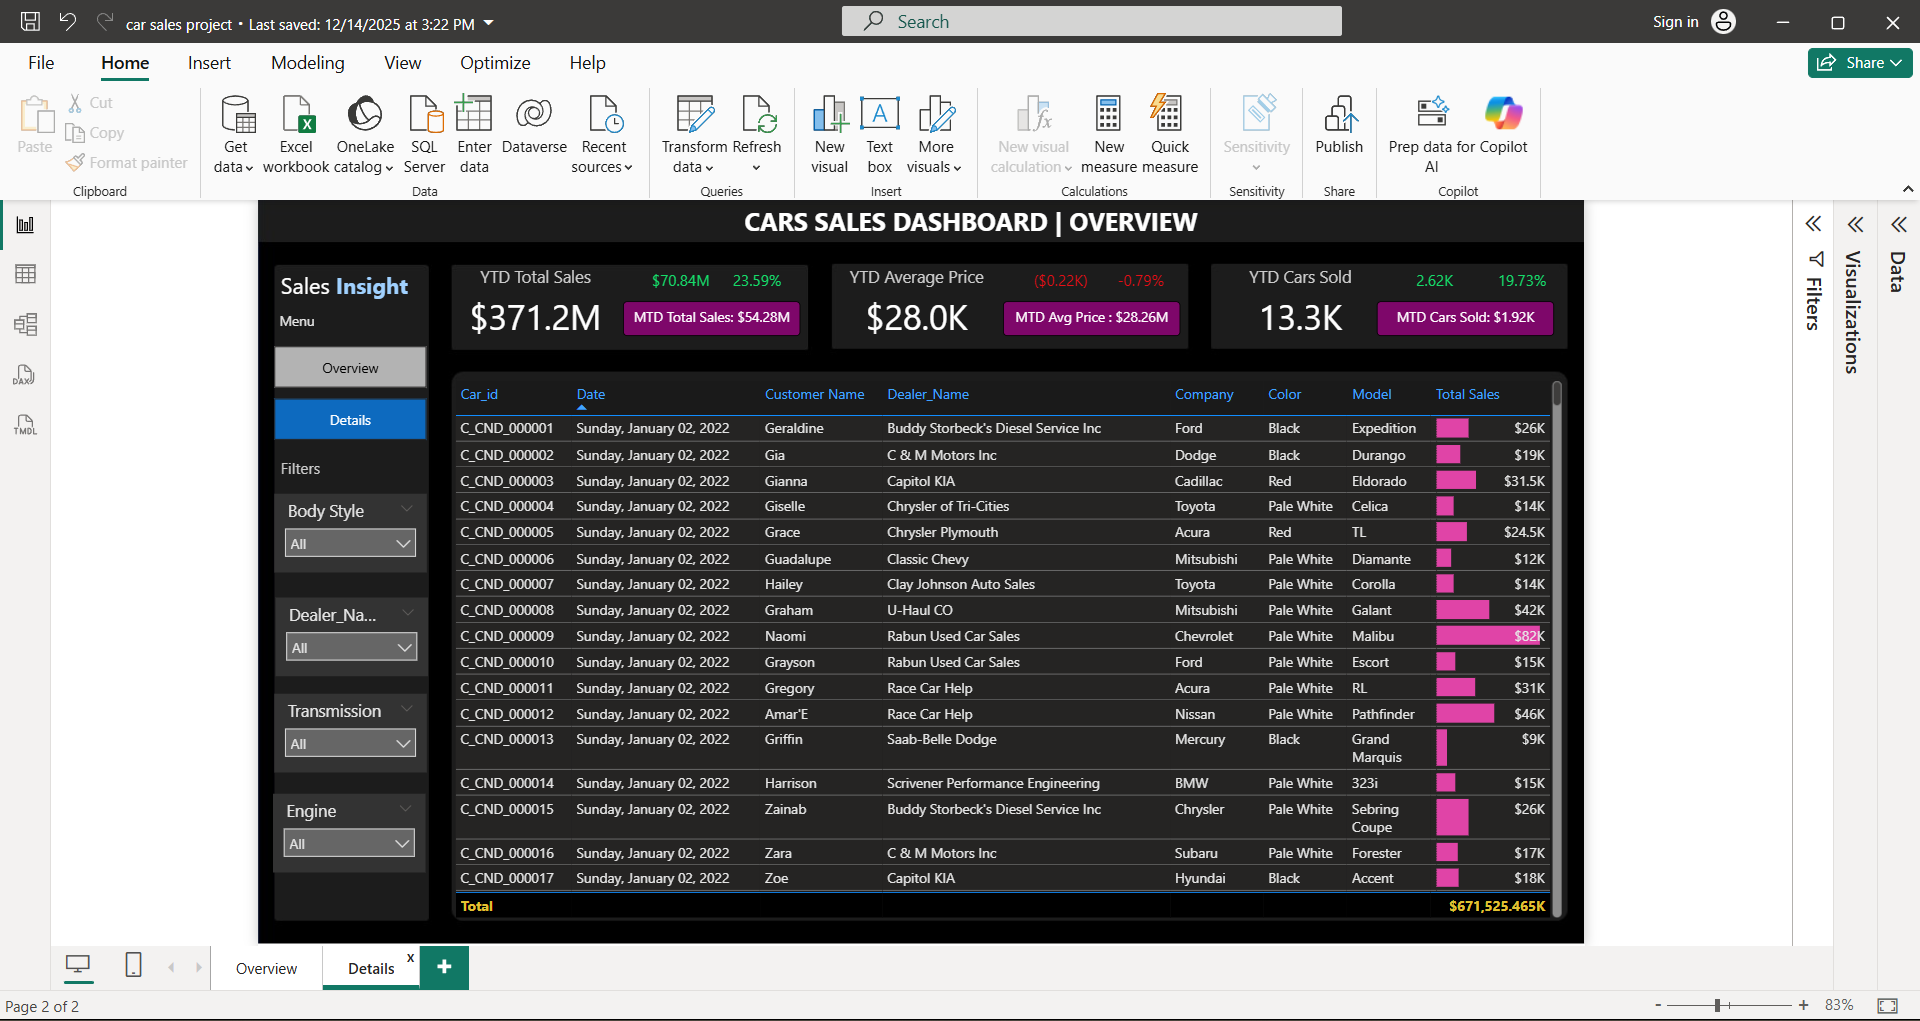

What the dashboard file says about the page in this screenshot:
{"tool":"powerbi","page":{"name":"Details","canvas":[1280,720],"ordinal":1},"visuals":[{"type":"card","title":"YTD Total Sales","fields":{"Values":["car_data.Year To Date"]},"box":[170.1,62.7,195.4,78.4],"z":0},{"type":"card","fields":{"Values":["car_data.difference of sales"]},"box":[352.3,62.7,112.2,35],"z":1000},{"type":"card","fields":{"Values":["car_data.YoY"]},"box":[425.9,62.7,112.2,35],"z":2000},{"type":"card","fields":{"Values":["car_data.MTD KPI"]},"box":[352.3,97.7,171.3,33.8],"z":3000},{"type":"card","title":"YTD Average Price","fields":{"Values":["car_data.YTD Avg Price"]},"box":[538.1,62.7,195.4,78.4],"z":4000},{"type":"card","fields":{"Values":["car_data.Avg price diff"]},"box":[719,62.7,112.2,35],"z":5000},{"type":"card","fields":{"Values":["car_data.YoY Avg Price"]},"box":[796.3,62.7,112.2,35],"z":6000},{"type":"card","fields":{"Values":["car_data.MTD Avg price KPI"]},"box":[719,97.7,171.3,33.8],"z":7000},{"type":"card","title":"YTD Cars Sold","fields":{"Values":["car_data.YTD Cars Sold"]},"box":[908.4,62.7,195.4,78.4],"z":8000},{"type":"card","fields":{"Values":["car_data.Cars Sold Diff"]},"box":[1079.8,62.7,112.2,35],"z":9000},{"type":"card","fields":{"Values":["car_data.YoY Car Sold Growth"]},"box":[1164.2,62.7,112.2,35],"z":10000},{"type":"card","fields":{"Values":["car_data.MTD Cars Sold KPI"]},"box":[1079.8,97.7,171.3,33.8],"z":11000},{"type":"textbox","box":[464.5,0,469.3,49.5],"z":17000},{"type":"slicer","fields":{"Values":["car_data.Body Style"]},"box":[15.7,283.5,147.2,76],"z":18000},{"type":"slicer","fields":{"Values":["car_data.Dealer_Name"]},"box":[16.9,383.6,147.2,76],"z":19000},{"type":"slicer","fields":{"Values":["car_data.Transmission"]},"box":[15.7,476.5,147.2,76],"z":20000},{"type":"slicer","fields":{"Values":["car_data.Engine"]},"box":[14.5,573.1,147.2,76],"z":21000},{"type":"textbox","box":[16.9,243.7,149.6,39.8],"z":22000},{"type":"tableEx","fields":{"Values":["car_data.Car_id","car_data.Date","car_data.Customer Name","car_data.Dealer_Name","car_data.Company","car_data.Color","car_data.Model","Sum(car_data.Price ($))"]},"box":[184.6,170.1,1078.6,527.2],"z":22001},{"type":"textbox","box":[16.9,62.7,149.6,39.8],"z":22002},{"type":"textbox","box":[15.7,102.5,59.1,31.4],"z":22003},{"type":"pageNavigator","box":[15.7,141.2,147.2,91.7],"z":22004}]}

Visuals, with their boxes on the page's 1280x720 design canvas (x1, y1, x2, y2). These are canvas units, not pixel positions in the 1920x1021 screenshot, which may show the page scaled, cropped or inside an application window:
"YTD Total Sales" card: l=170, t=63, r=366, b=141
card - car_data.difference of sales: l=352, t=63, r=464, b=98
card - car_data.YoY: l=426, t=63, r=538, b=98
card - car_data.MTD KPI: l=352, t=98, r=524, b=132
"YTD Average Price" card: l=538, t=63, r=734, b=141
card - car_data.Avg price diff: l=719, t=63, r=831, b=98
card - car_data.YoY Avg Price: l=796, t=63, r=908, b=98
card - car_data.MTD Avg price KPI: l=719, t=98, r=890, b=132
"YTD Cars Sold" card: l=908, t=63, r=1104, b=141
card - car_data.Cars Sold Diff: l=1080, t=63, r=1192, b=98
card - car_data.YoY Car Sold Growth: l=1164, t=63, r=1276, b=98
card - car_data.MTD Cars Sold KPI: l=1080, t=98, r=1251, b=132
textbox: l=464, t=0, r=934, b=50
slicer - car_data.Body Style: l=16, t=284, r=163, b=360
slicer - car_data.Dealer_Name: l=17, t=384, r=164, b=460
slicer - car_data.Transmission: l=16, t=476, r=163, b=552
slicer - car_data.Engine: l=14, t=573, r=162, b=649
textbox: l=17, t=244, r=166, b=284
tableEx - car_data.Car_id x car_data.Date: l=185, t=170, r=1263, b=697
textbox: l=17, t=63, r=166, b=102
textbox: l=16, t=102, r=75, b=134
pageNavigator: l=16, t=141, r=163, b=233
